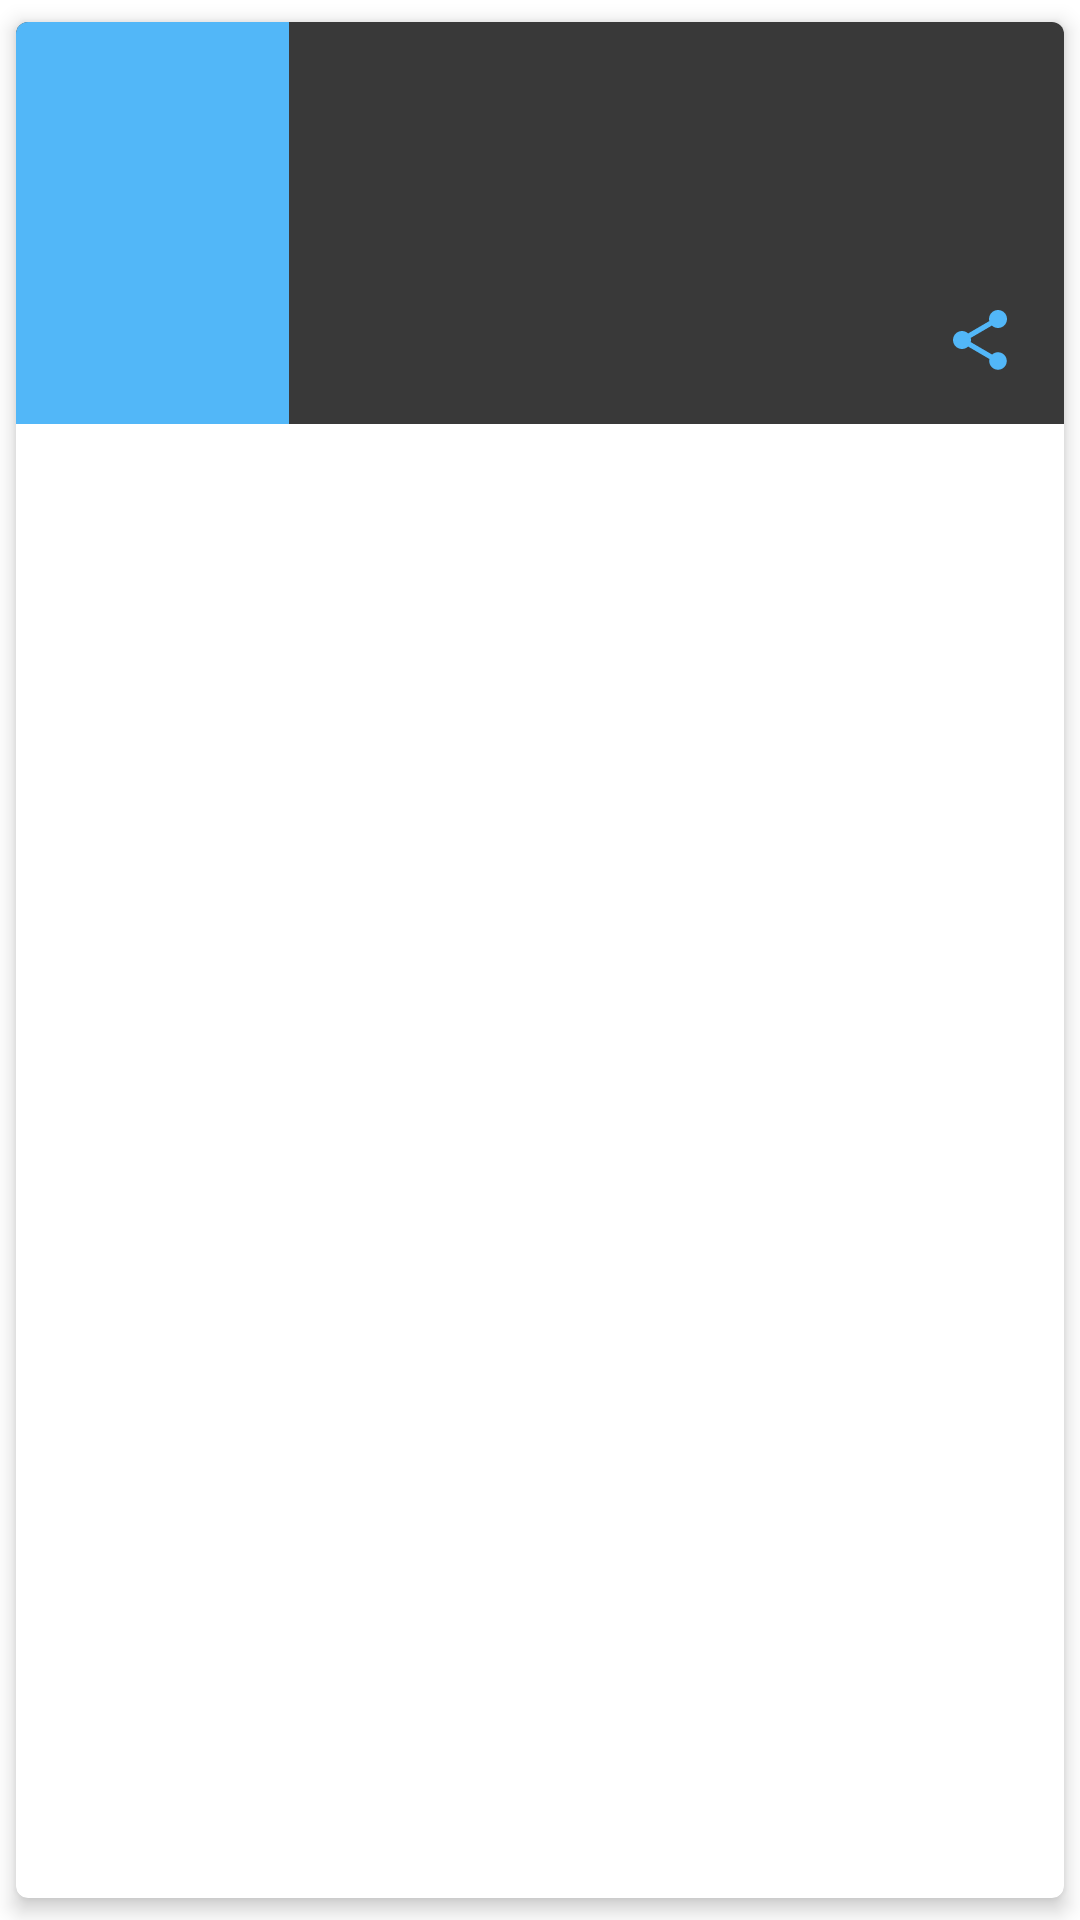

Named icons in this screenshot (1080px x 1920px) and their bounding boxes, {"x1": x1, "y1": y1, "x2": x2, "y2": y2}:
share: {"x1": 953, "y1": 310, "x2": 1007, "y2": 370}
